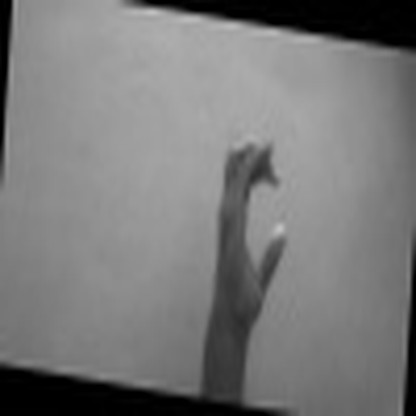c: (206, 130, 305, 346)
